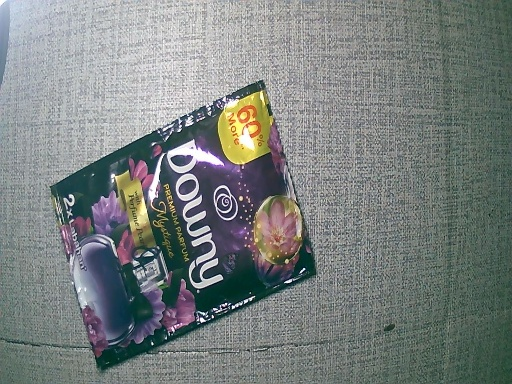plastic: (46, 78, 317, 373)
